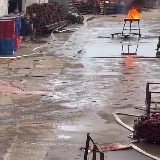fire: (125, 7, 140, 19)
